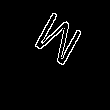M_SW: (24, 4, 83, 72)
